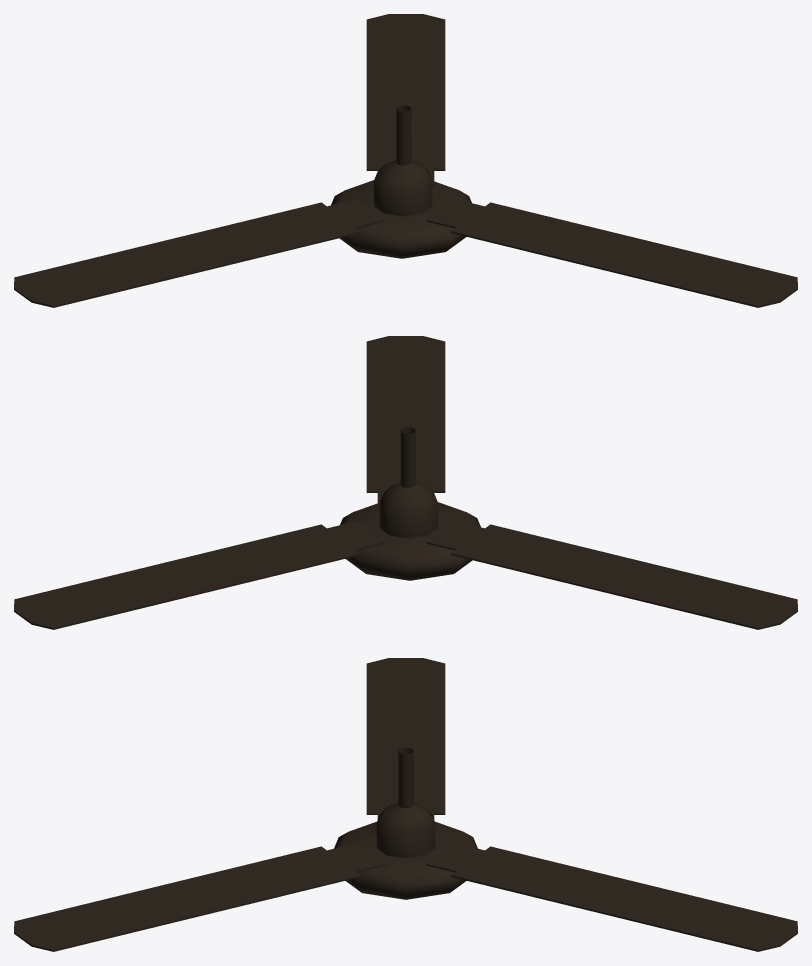
The model's file is fan.obj.
3 views of the same model, one above another, from view 1: azimuth 30°, elevation 25°; view 2: azimuth 150°, elevation 25°; view 3: azimuth 270°, elevation 25° (orthographic).
Parts seen in each view (by area): view 1: cellingFan; view 2: cellingFan; view 3: cellingFan.
Boxes of the visible parts, box(x1,y1,x2,y2) form: cellingFan: box(14, 14, 797, 307); cellingFan: box(14, 336, 797, 629); cellingFan: box(14, 658, 797, 951).
Size of the model in its own units: 10.9 by 2.34 by 12.36.
1 material, 1 textured.
